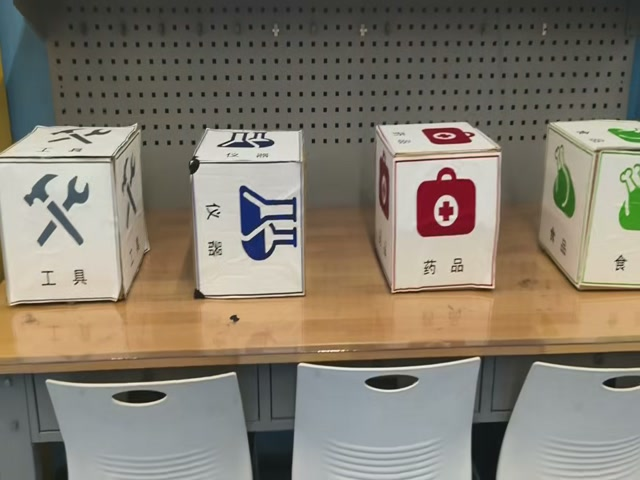Cube_food: (544, 123, 638, 157)
Cube_ins: (188, 130, 302, 164)
Cube_medicine: (375, 125, 501, 161)
Cube_tool: (0, 128, 139, 164)
